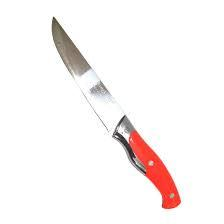Knife: (50, 15, 181, 209)
